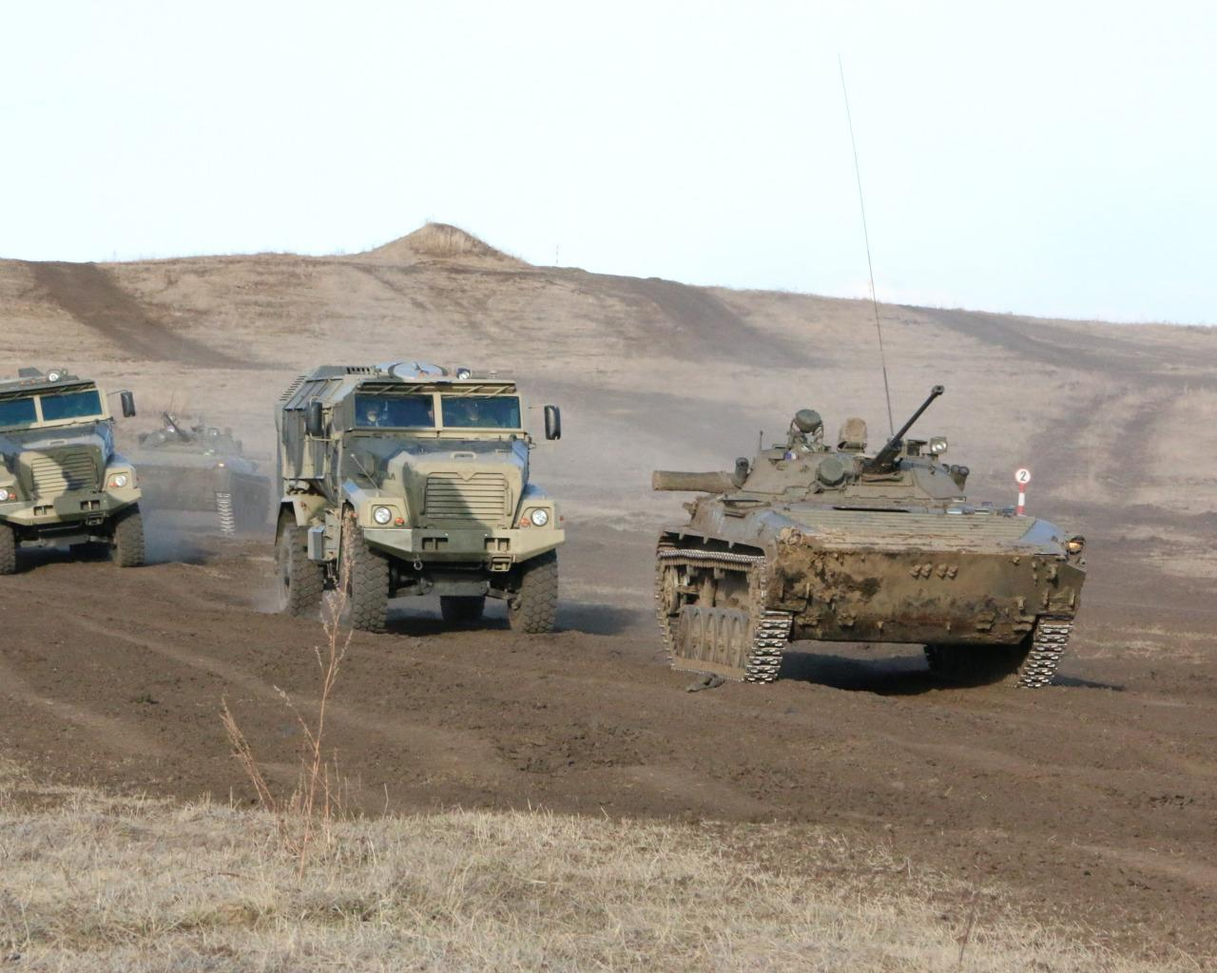tank: (649, 383, 1091, 696), (127, 411, 271, 536)
truck: (271, 358, 570, 639), (0, 365, 148, 575)
